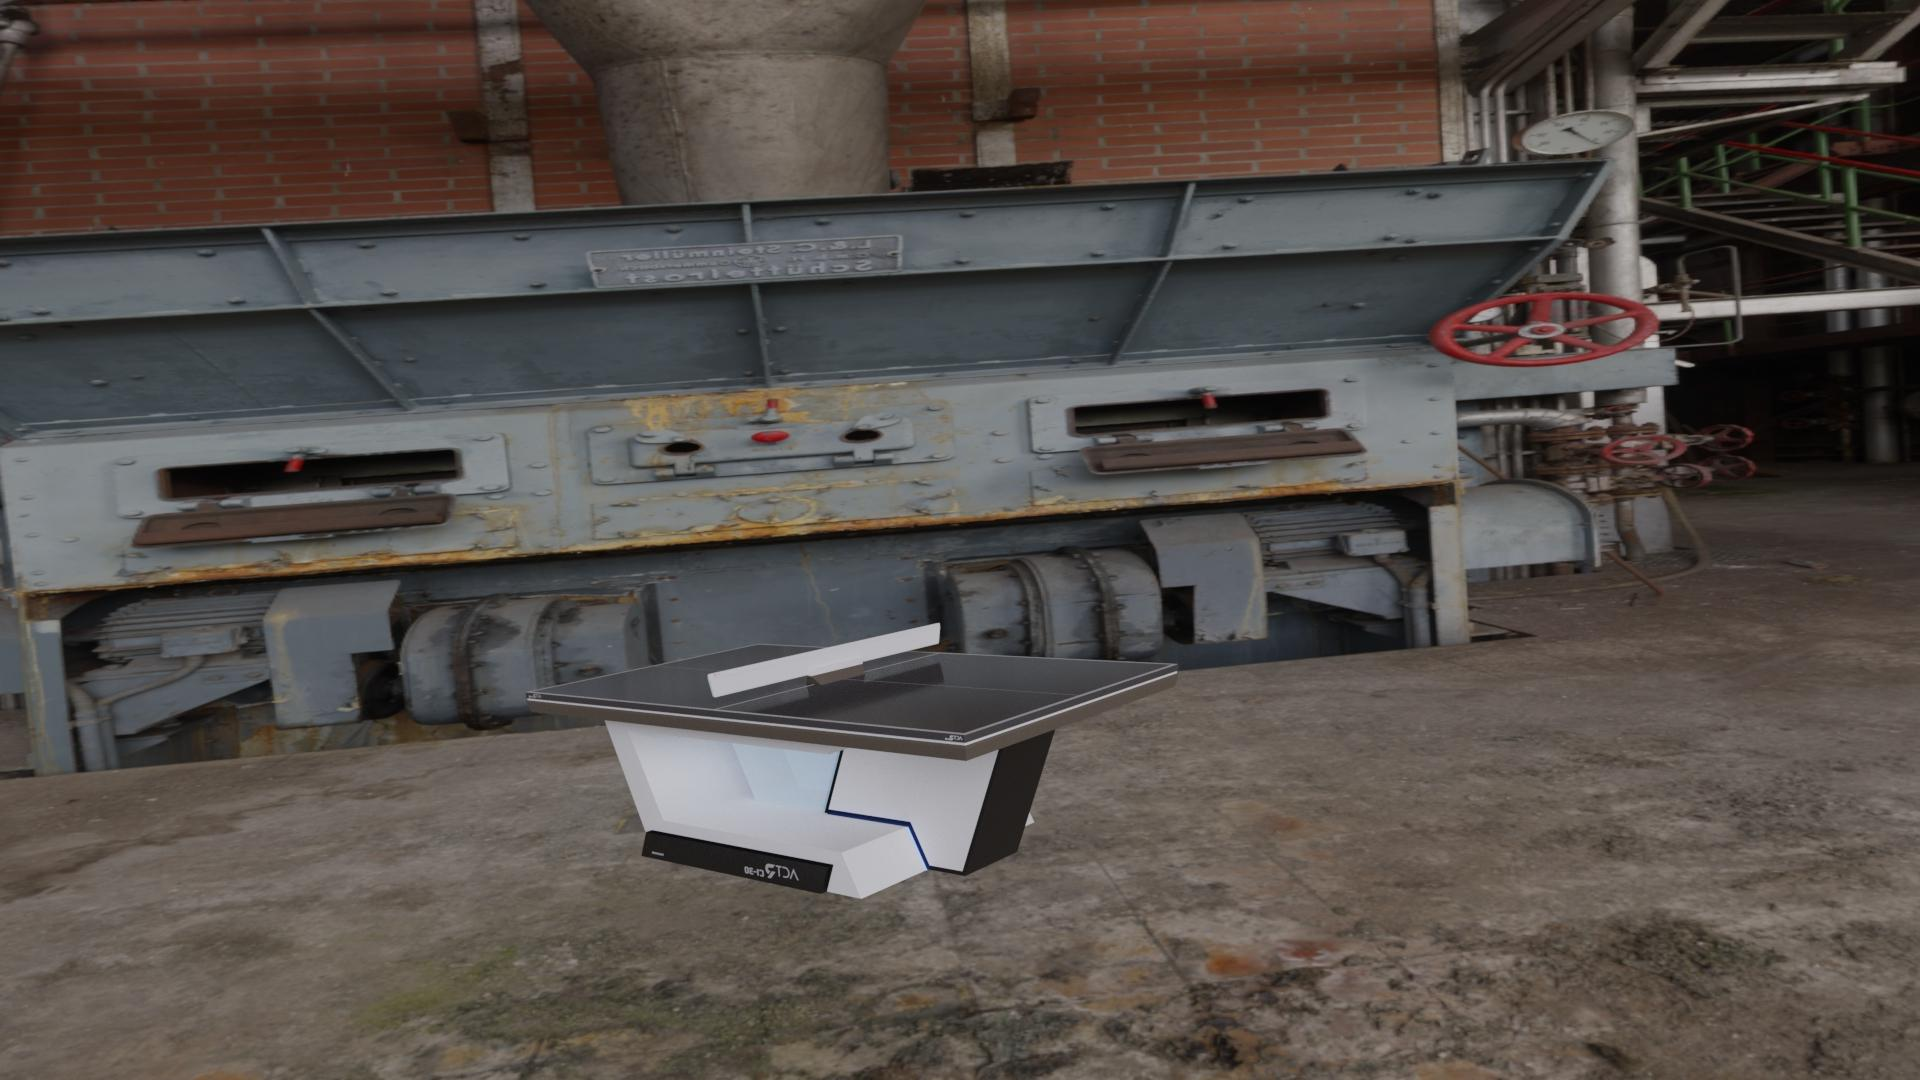table: (531, 645, 1172, 733)
